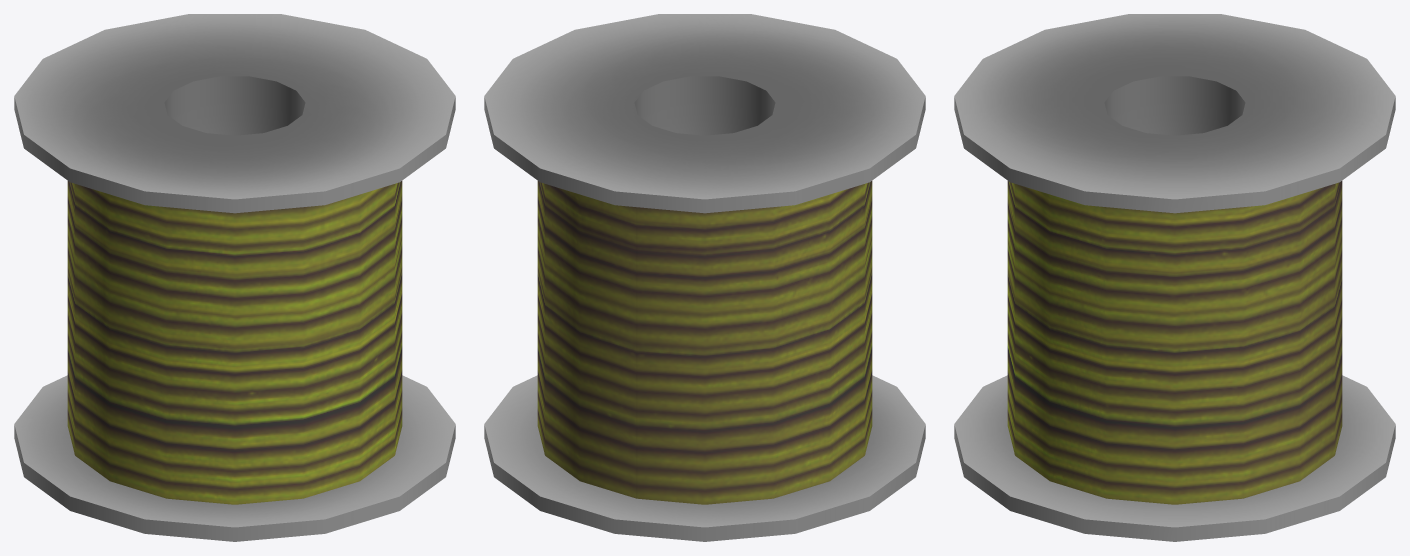
File: yellow_wires.FBX
The picture shows the model from 3 angles, left to right: view 1: azimuth 30°, elevation 25°; view 2: azimuth 150°, elevation 25°; view 3: azimuth 270°, elevation 25°; orthographic projection.
Visible parts, largest first — view 1: yellow_wires; view 2: yellow_wires; view 3: yellow_wires.
Part boxes in pixels (x1,y1,x2,y2): yellow_wires: (14, 14, 455, 541); yellow_wires: (484, 14, 925, 541); yellow_wires: (954, 14, 1395, 541).
Bounding box in the file's own units: 53.46 × 46.03 × 53.76.
1 material, 1 textured.
